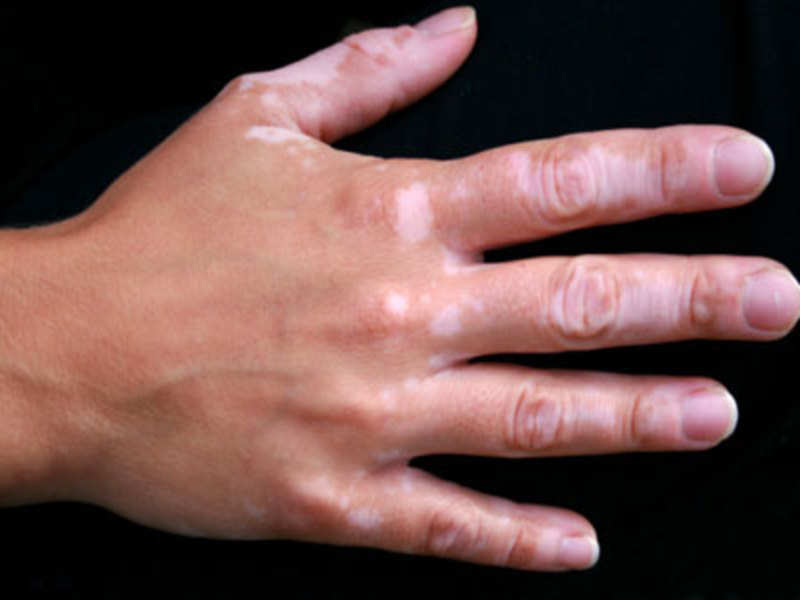Diseased: (234, 28, 768, 593)
